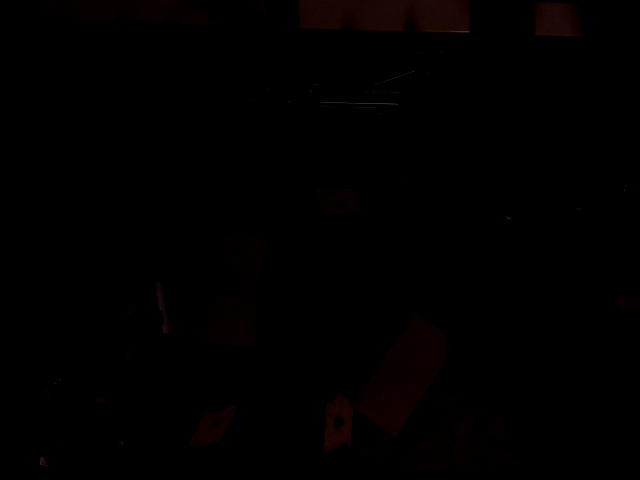brick: (352, 313, 458, 434), (295, 246, 416, 321), (199, 229, 270, 345), (254, 323, 362, 382)
